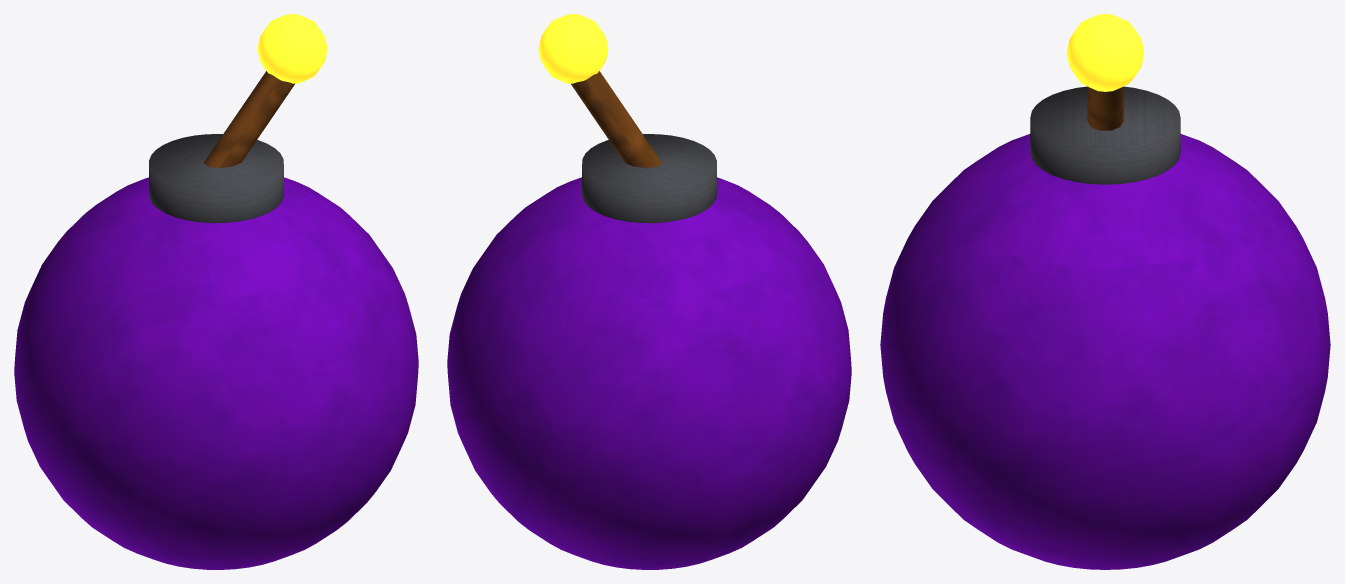
3 renders of one model, left to right at view 1: azimuth 30°, elevation 25°; view 2: azimuth 150°, elevation 25°; view 3: azimuth 270°, elevation 25°, orthographic. The views are drawn at different scales.
Visible parts, largest first — view 1: Bomb, Cap, Spark, Fuse; view 2: Bomb, Cap, Spark, Fuse; view 3: Bomb, Cap, Spark, Fuse.
Part boxes in pixels (box(x1,y1,x2,y2)): Bomb: box(14, 177, 418, 569); Cap: box(149, 134, 283, 223); Spark: box(257, 14, 327, 83); Fuse: box(204, 71, 294, 167); Bomb: box(447, 177, 851, 569); Cap: box(582, 134, 716, 223); Spark: box(538, 14, 608, 83); Fuse: box(571, 71, 661, 167); Bomb: box(880, 134, 1330, 569); Cap: box(1030, 86, 1180, 184); Spark: box(1066, 14, 1144, 91); Fuse: box(1087, 86, 1123, 130).
Bounding box in the file's own units: 0.3 × 0.421 × 0.3.
4 materials, 3 textured.
